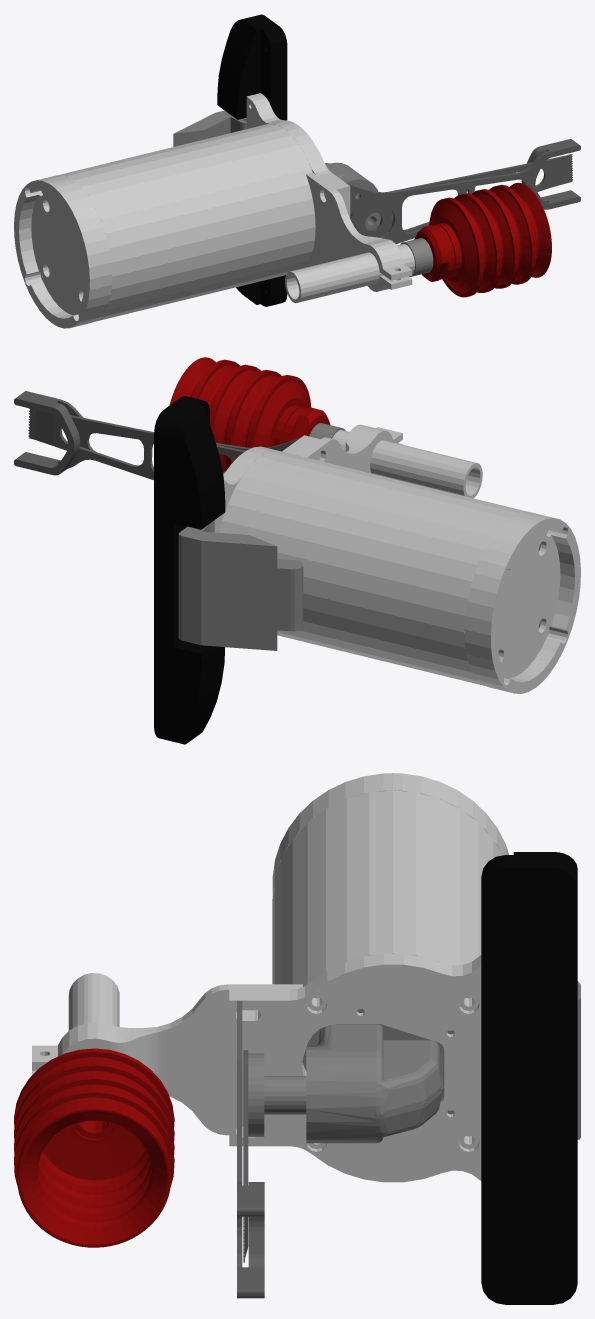
The model's file is gripper_cutter_visual.dae.
3 views of the same model, one above another, from view 1: azimuth 30°, elevation 25°; view 2: azimuth 150°, elevation 25°; view 3: azimuth 270°, elevation 25° (orthographic). The views are drawn at different scales.
Visible parts, largest first — view 1: node; view 2: node; view 3: node.
Boxes of the visible parts, box(x1,y1,x2,y2) form: node: box(14, 14, 580, 328); node: box(14, 357, 580, 744); node: box(14, 773, 580, 1304).
Bounding box in the file's own units: 0.2737 × 0.15 × 0.1764.
